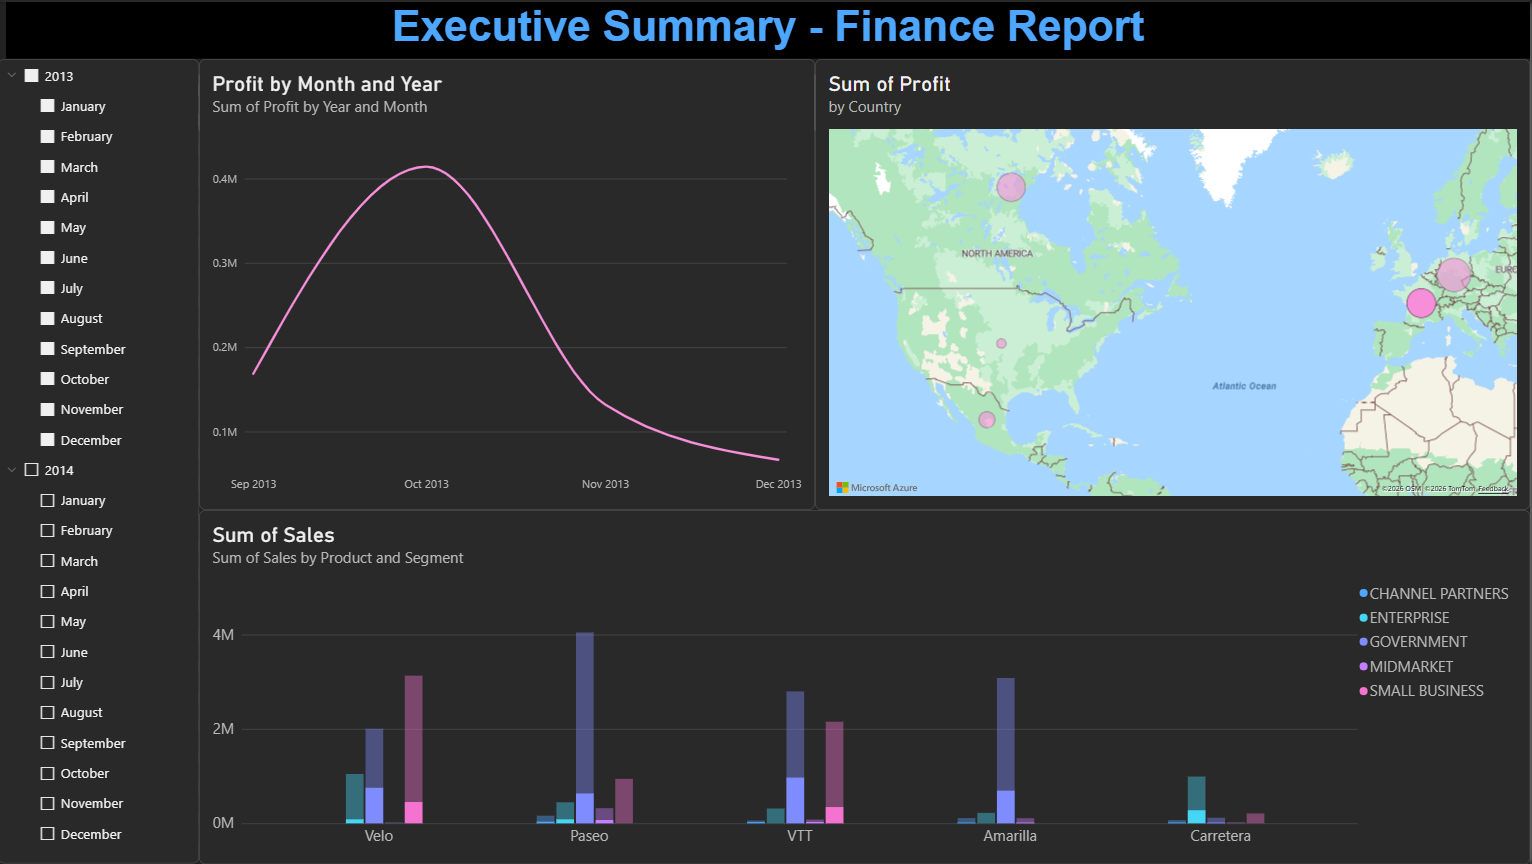

What the dashboard file says about the page in this screenshot:
{"tool":"powerbi","page":{"name":"Page 1","canvas":[1920,1080],"ordinal":0},"visuals":[{"type":"shape","box":[0,90.2,1908.2,71.4],"z":0},{"type":"lineChart","title":"Profit by Month and Year","fields":{"Category":["Calender.Date.Variation.Date Hierarchy.Year","Calender.Date.Variation.Date Hierarchy.Month"],"Y":["Sum(financials.Profit)"]},"box":[252.4,71.5,771.8,564.6],"z":2000},{"type":"azureMap","fields":{"Category":["financials.Country"],"Size":["Sum(financials.Profit)"]},"box":[1024.2,71.5,895.8,564.6],"z":3000},{"type":"clusteredColumnChart","title":"Sum of Sales","fields":{"Category":["financials.Product"],"Series":["financials.Segment"],"Y":["Sum(financials.Sales)"]},"box":[252.4,636.1,1667.6,443.5],"z":4000},{"type":"slicer","fields":{"Values":["Calender.Date.Variation.Date Hierarchy.Year","Calender.Date.Variation.Date Hierarchy.Month"]},"box":[0,71.5,252.4,1008.1],"z":5000},{"type":"textbox","box":[10.2,0,1909.8,71.5],"z":9500}]}

Visuals, with their boxes in screenshot pixels (x1, y1, x2, y2), scaled from the page's 1920x1080 canvas onto the 1532x864 screenshot:
shape: (0,72,1523,129)
"Profit by Month and Year" lineChart: (201,57,817,509)
azureMap - financials.Country x Sum(financials.Profit): (817,57,1531,509)
"Sum of Sales" clusteredColumnChart: (201,509,1531,863)
slicer - Calender.Date.Variation.Date Hierarchy.Year x Calender.Date.Variation.Date Hierarchy.Month: (0,57,201,863)
textbox: (8,0,1531,57)
